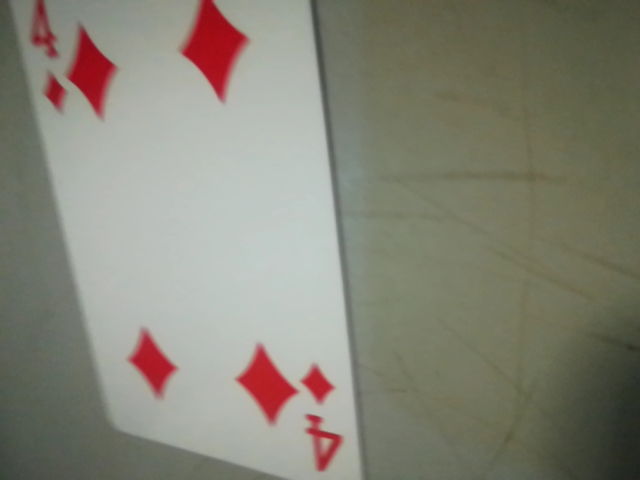fk 4: (287, 349, 356, 480)
